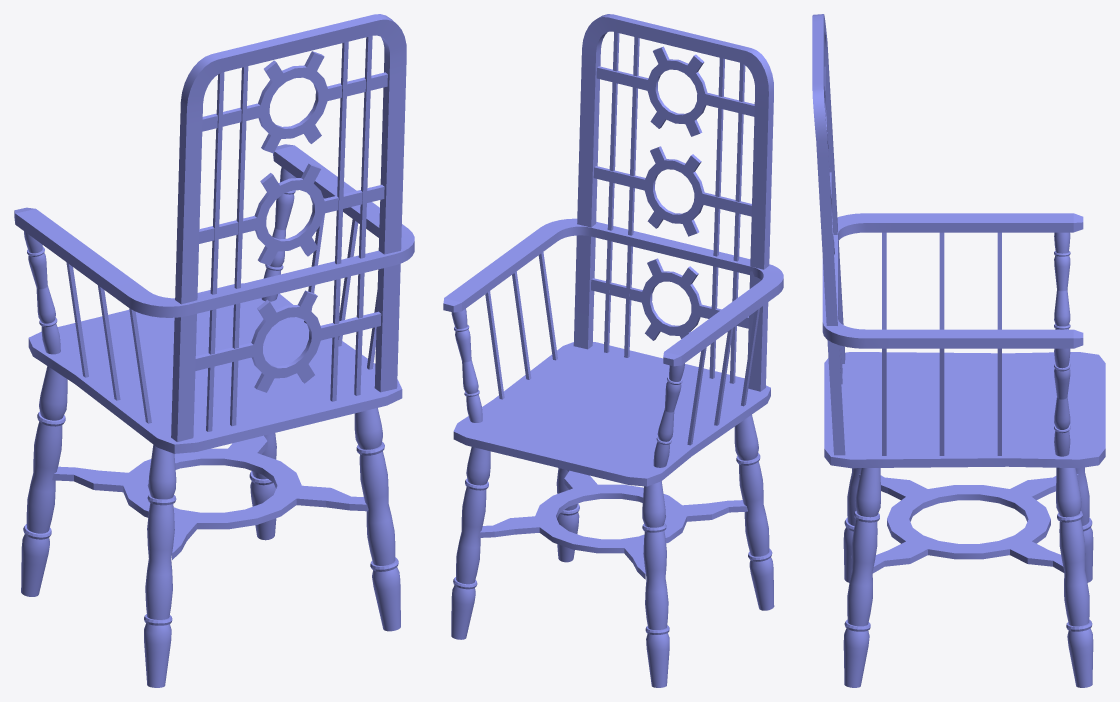
File: hidden_Cheir_low.fbx
The picture shows the model from 3 angles, left to right: view 1: azimuth 30°, elevation 25°; view 2: azimuth 150°, elevation 25°; view 3: azimuth 270°, elevation 25°; orthographic projection. The views are drawn at different scales.
Visible parts, largest first — view 1: hidden_cheir_low; view 2: hidden_cheir_low; view 3: hidden_cheir_low.
Boxes of the visible parts, box(x1,y1,x2,y2) form: hidden_cheir_low: box(14, 14, 414, 687); hidden_cheir_low: box(443, 14, 783, 687); hidden_cheir_low: box(812, 14, 1105, 687).
Size of the model in its own units: 56.91 by 56.3 by 123.
